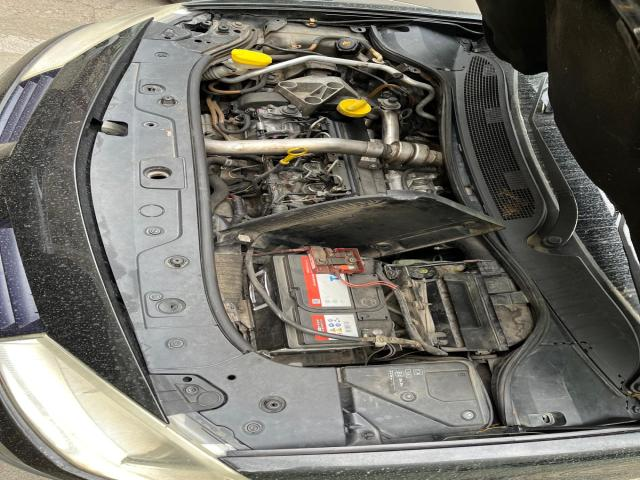accumulator: (250, 247, 418, 352)
alternator: (202, 113, 217, 138)
antifreeze_tank: (265, 22, 365, 55), (263, 47, 287, 54)
fuse_box: (340, 358, 493, 445)
high_pressure_pump: (255, 105, 302, 139)
